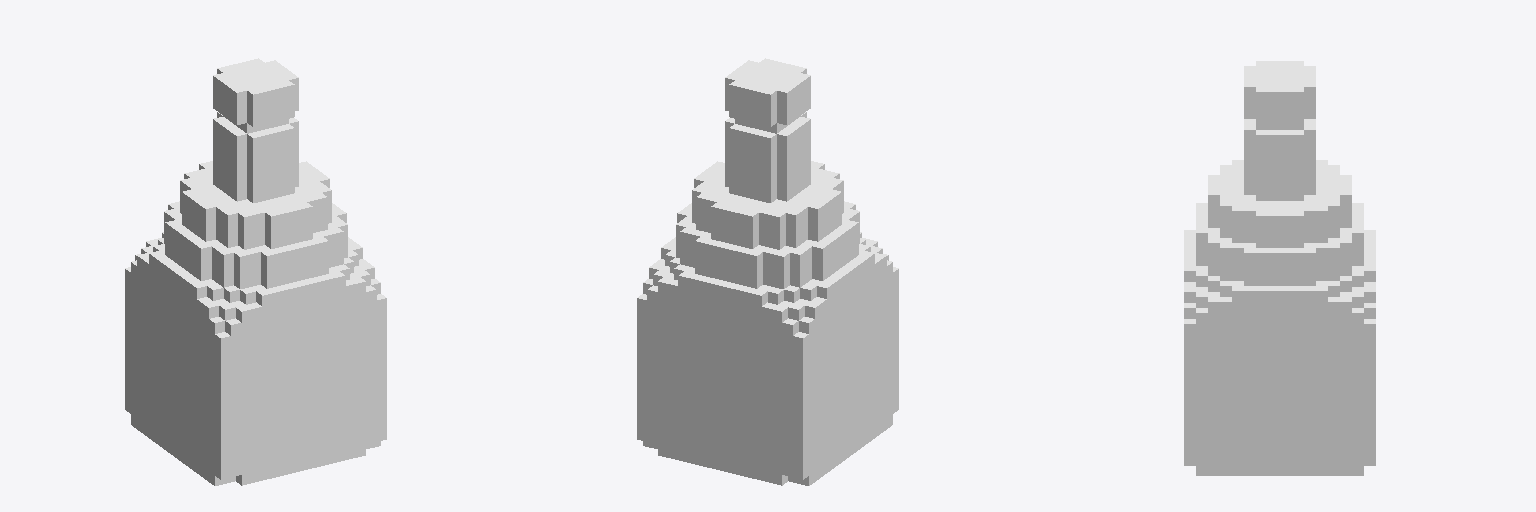
File: PotionShelf-5.obj
The picture shows the model from 3 angles: view 1: azimuth 30°, elevation 25°; view 2: azimuth 150°, elevation 25°; view 3: azimuth 270°, elevation 25°; orthographic projection.
Visible parts, largest first — view 1: object 1; view 2: object 1; view 3: object 1.
Part boxes in pixels (x1,y1,x2,y2): object 1: (125,58,386,485); object 1: (637,58,898,485); object 1: (1184,61,1375,475).
Bounding box in the file's own units: 1.6 × 3.3 × 1.6.